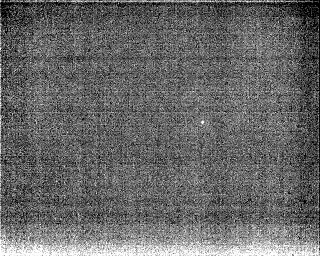BIRD: (199, 118, 207, 127)
